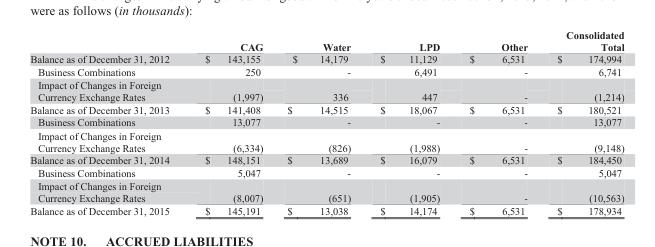table: (29, 28, 623, 215)
table column: (29, 28, 186, 215), (274, 28, 364, 215), (364, 28, 454, 215), (186, 28, 274, 215), (454, 28, 541, 215), (541, 28, 623, 215)
table column header: (29, 28, 623, 52)
table row: (29, 78, 623, 103), (29, 128, 623, 153), (29, 178, 623, 203), (29, 28, 623, 52), (29, 52, 623, 65), (29, 65, 623, 78), (29, 115, 623, 128), (29, 165, 623, 178), (29, 103, 623, 115), (29, 153, 623, 165), (29, 203, 623, 215)
